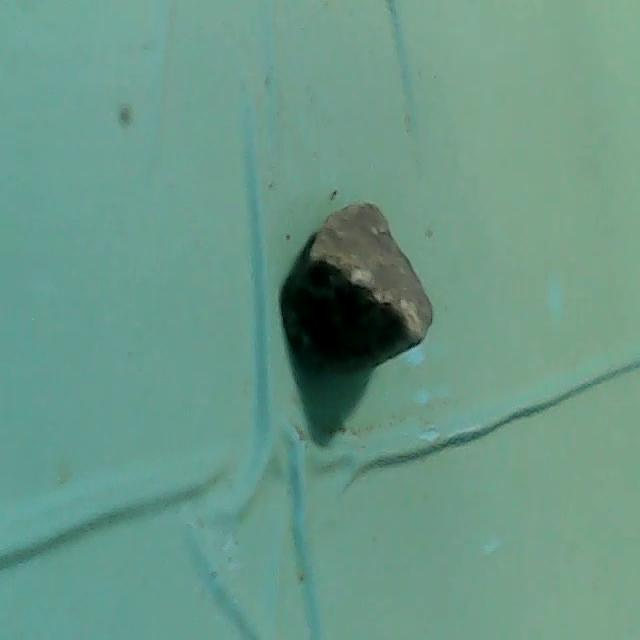rock: (282, 191, 438, 373)
